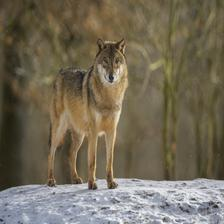WOLF: (47, 34, 128, 188)
